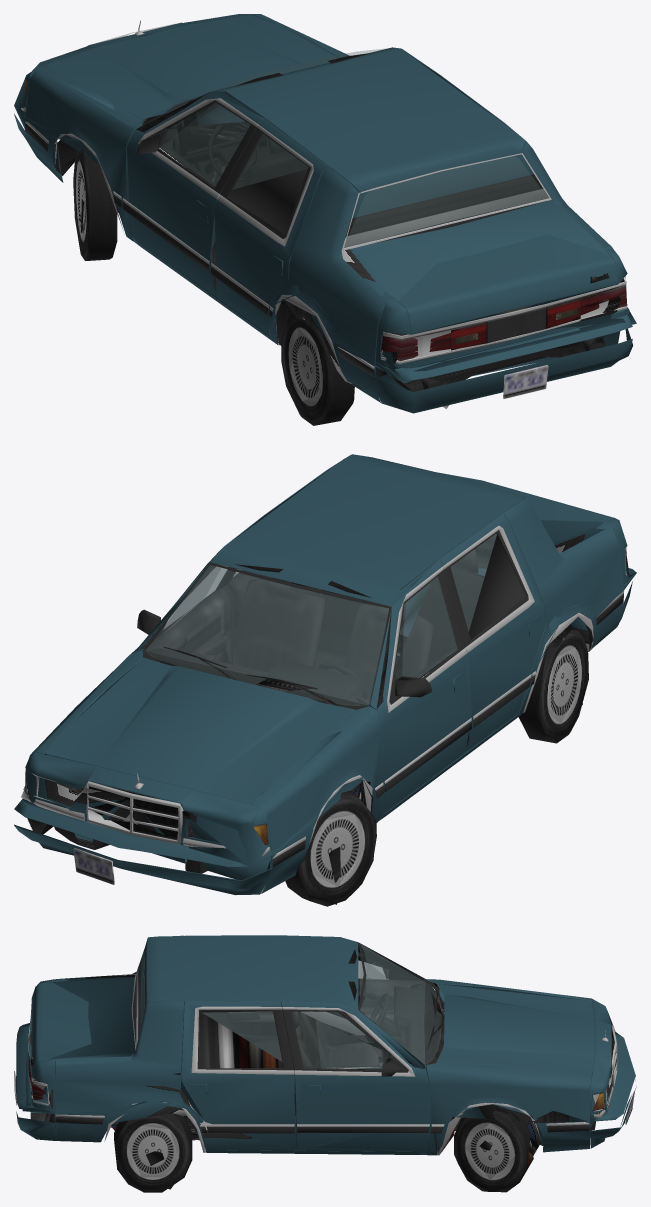
Rendered from riverside.glb.
3 views of the same model, one above another, from view 1: azimuth 30°, elevation 25°; view 2: azimuth 150°, elevation 25°; view 3: azimuth 270°, elevation 25° (orthographic). The views are drawn at different scales.
Visible parts, largest first — view 1: Hull, Distance; view 2: Hull, Distance; view 3: Hull, Distance.
Boxes of the visible parts, bbox=[...] form: Hull: bbox=[14, 14, 633, 425]; Distance: bbox=[14, 24, 636, 416]; Hull: bbox=[14, 454, 636, 906]; Distance: bbox=[24, 517, 636, 904]; Hull: bbox=[14, 935, 636, 1192]; Distance: bbox=[22, 944, 616, 1189].
Bounding box in the file's own units: 1.8 × 1.37 × 4.33.
Materials: 2 (1 with a texture image).
